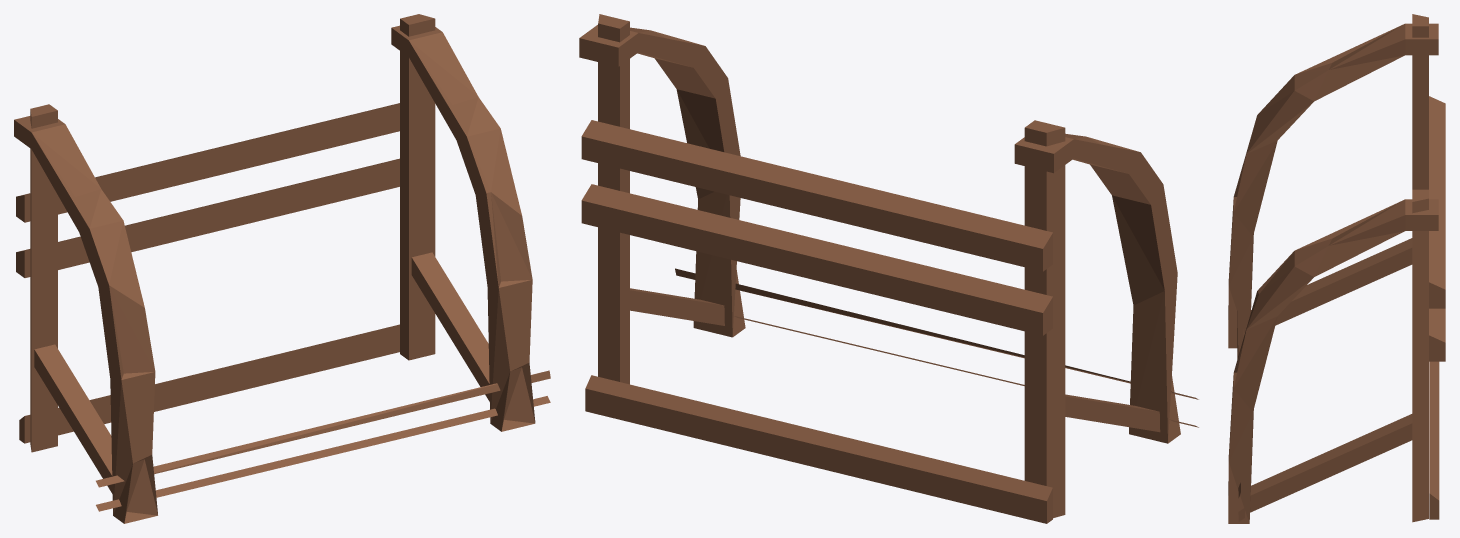
Rendered from weapon-rack.lod1.glb.
The picture shows the model from 3 angles, left to right: view 1: azimuth 30°, elevation 25°; view 2: azimuth 150°, elevation 25°; view 3: azimuth 270°, elevation 25°; orthographic projection. The views are drawn at different scales.
Parts seen in each view (by area): view 1: defaultMaterial; view 2: defaultMaterial; view 3: defaultMaterial.
Boxes of the visible parts, x1,y1,x2,y2 form: defaultMaterial: (14, 14, 550, 523); defaultMaterial: (579, 14, 1198, 523); defaultMaterial: (1228, 14, 1445, 523).
Bounding box in the file's own units: 2 × 1.42 × 0.8714.
